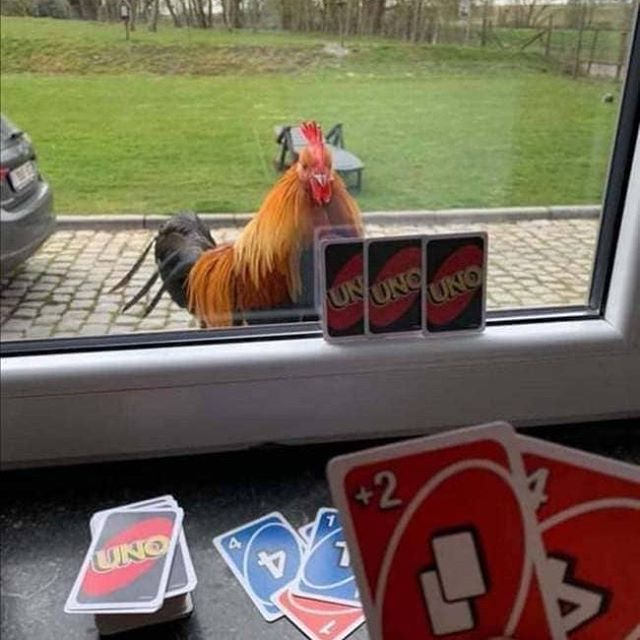animal: (145, 129, 369, 322)
grass: (10, 27, 620, 197)
